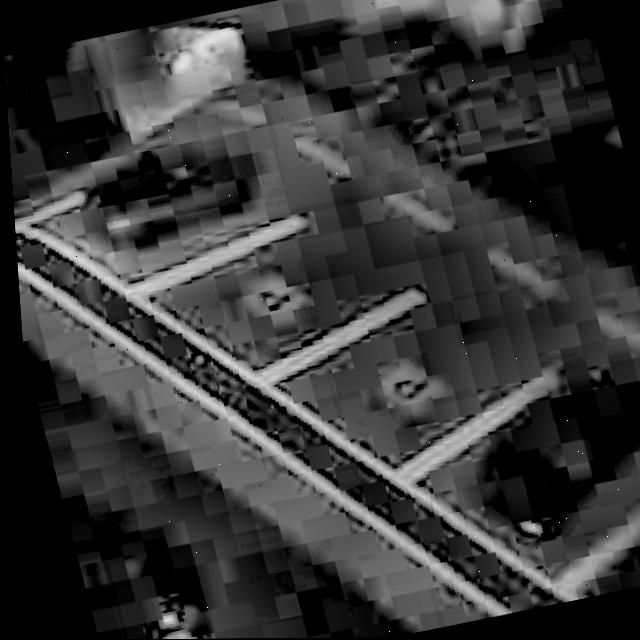car: (435, 352, 640, 553), (57, 127, 259, 266)
